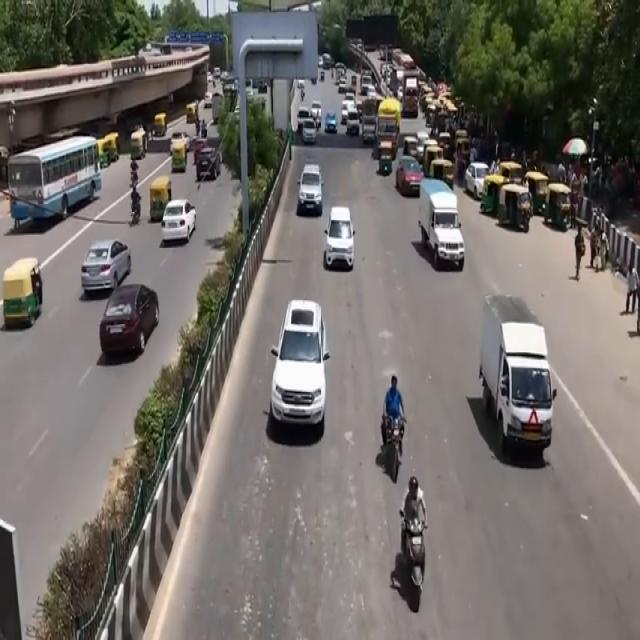BUS: (9, 138, 105, 235)
MOTORCYCLE: (404, 518, 428, 616), (382, 414, 403, 484)
SED: (100, 286, 159, 364)
SUV: (274, 302, 326, 436), (326, 207, 356, 273), (300, 164, 323, 218)
TRUCK: (481, 294, 554, 458), (419, 183, 464, 271)
